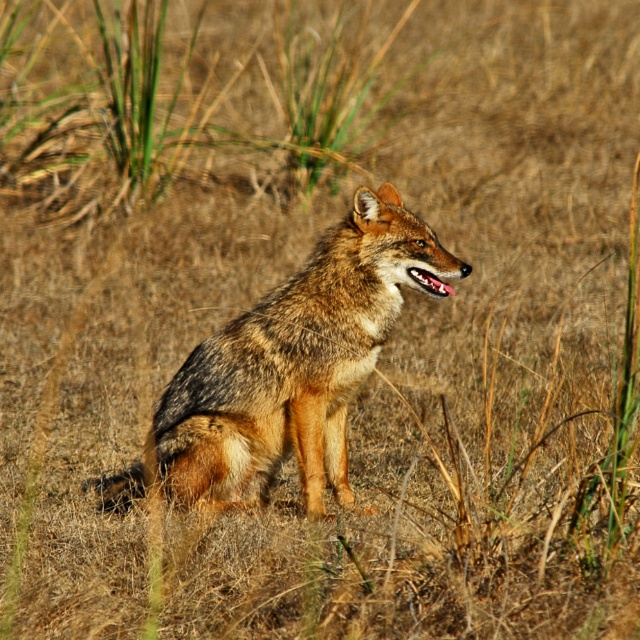Fox: (83, 181, 473, 525)
